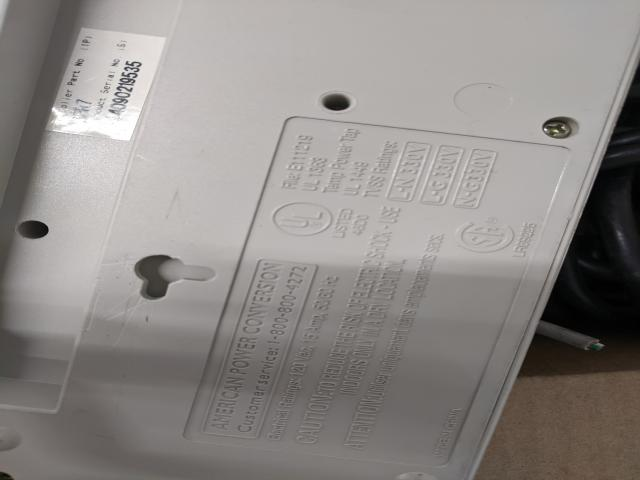CRS: (541, 120, 578, 138)
